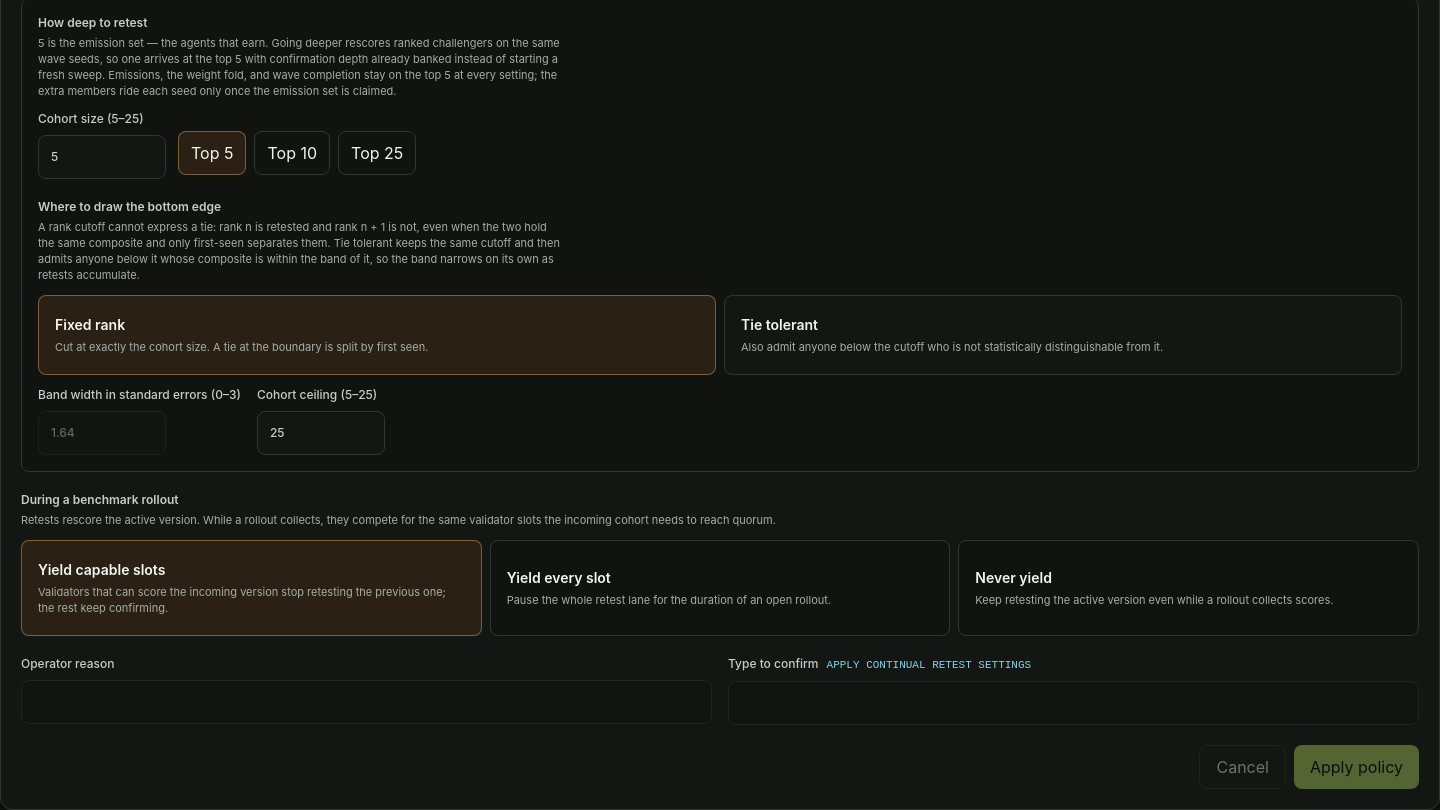
ContinualRetestControlPanel › warns before overriding the stand-down during an open rollout
(page scrolled)
Click the button "Never yield" at {"x": 1014, "y": 578}, box top-left (958, 540), bottom-right (1419, 636)
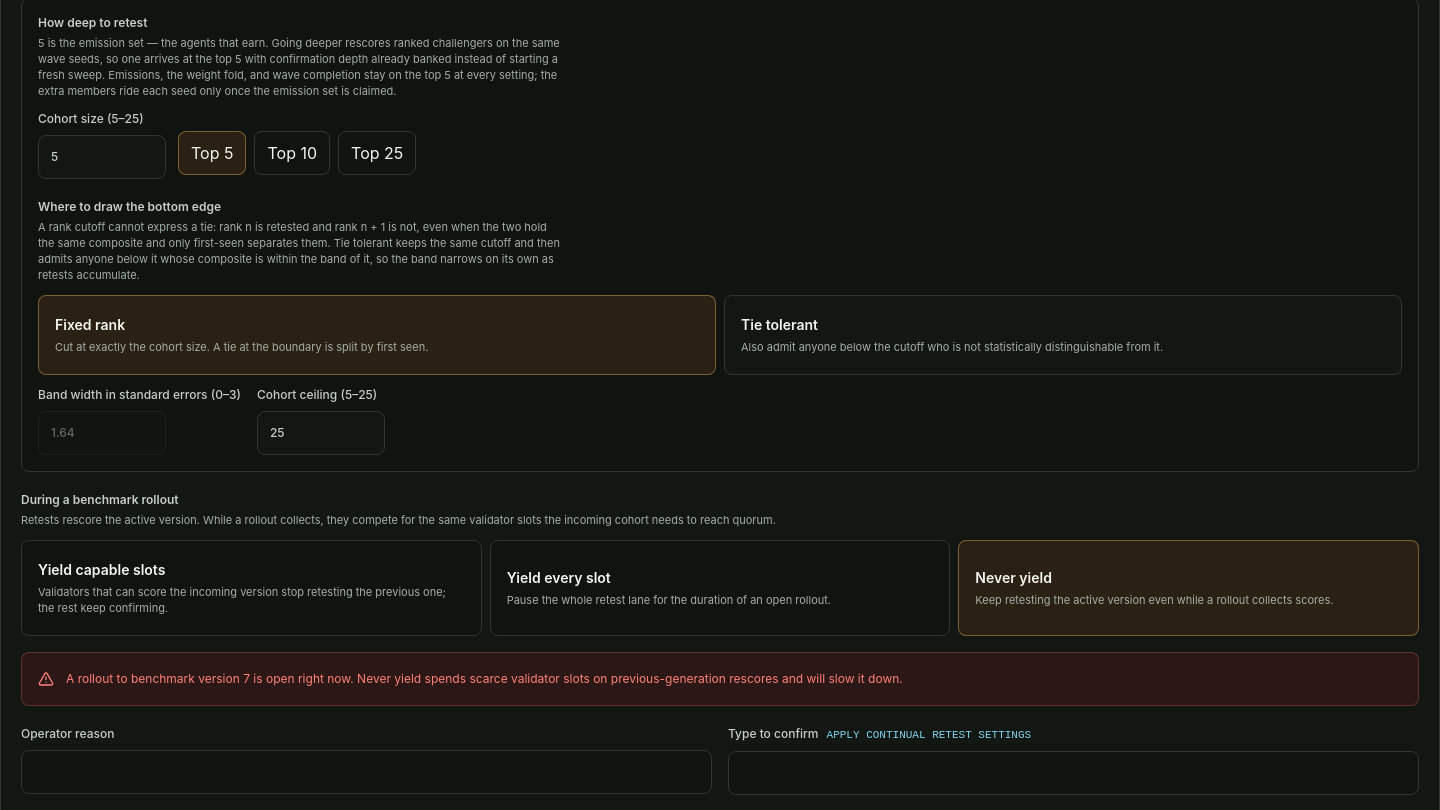
Result: the text "will slow it down" is shown at top-left (250, 671), bottom-right (903, 686)
